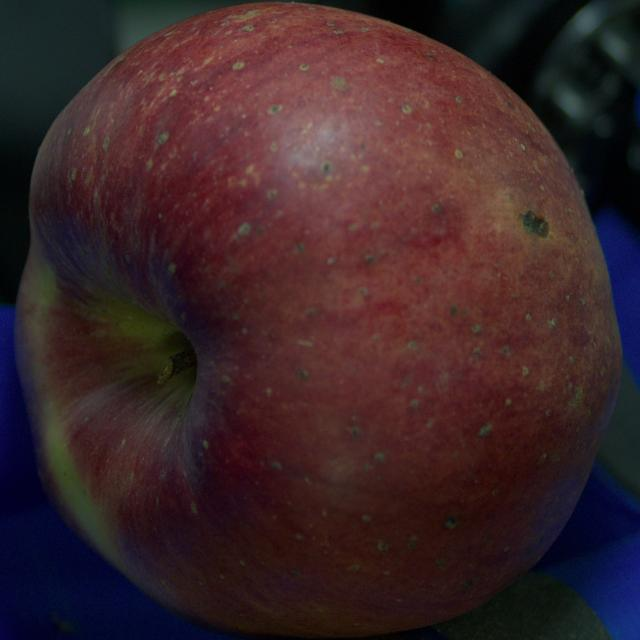apple: (14, 3, 621, 638)
pest: (522, 210, 548, 237)
